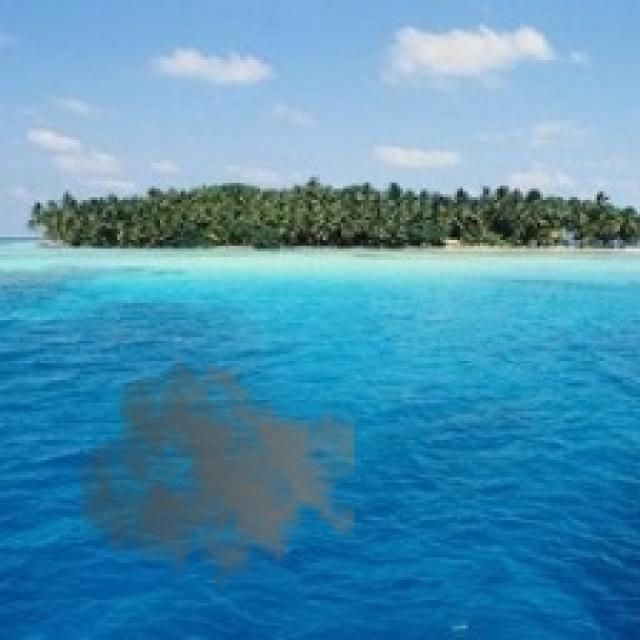smoke: (74, 351, 354, 606)
